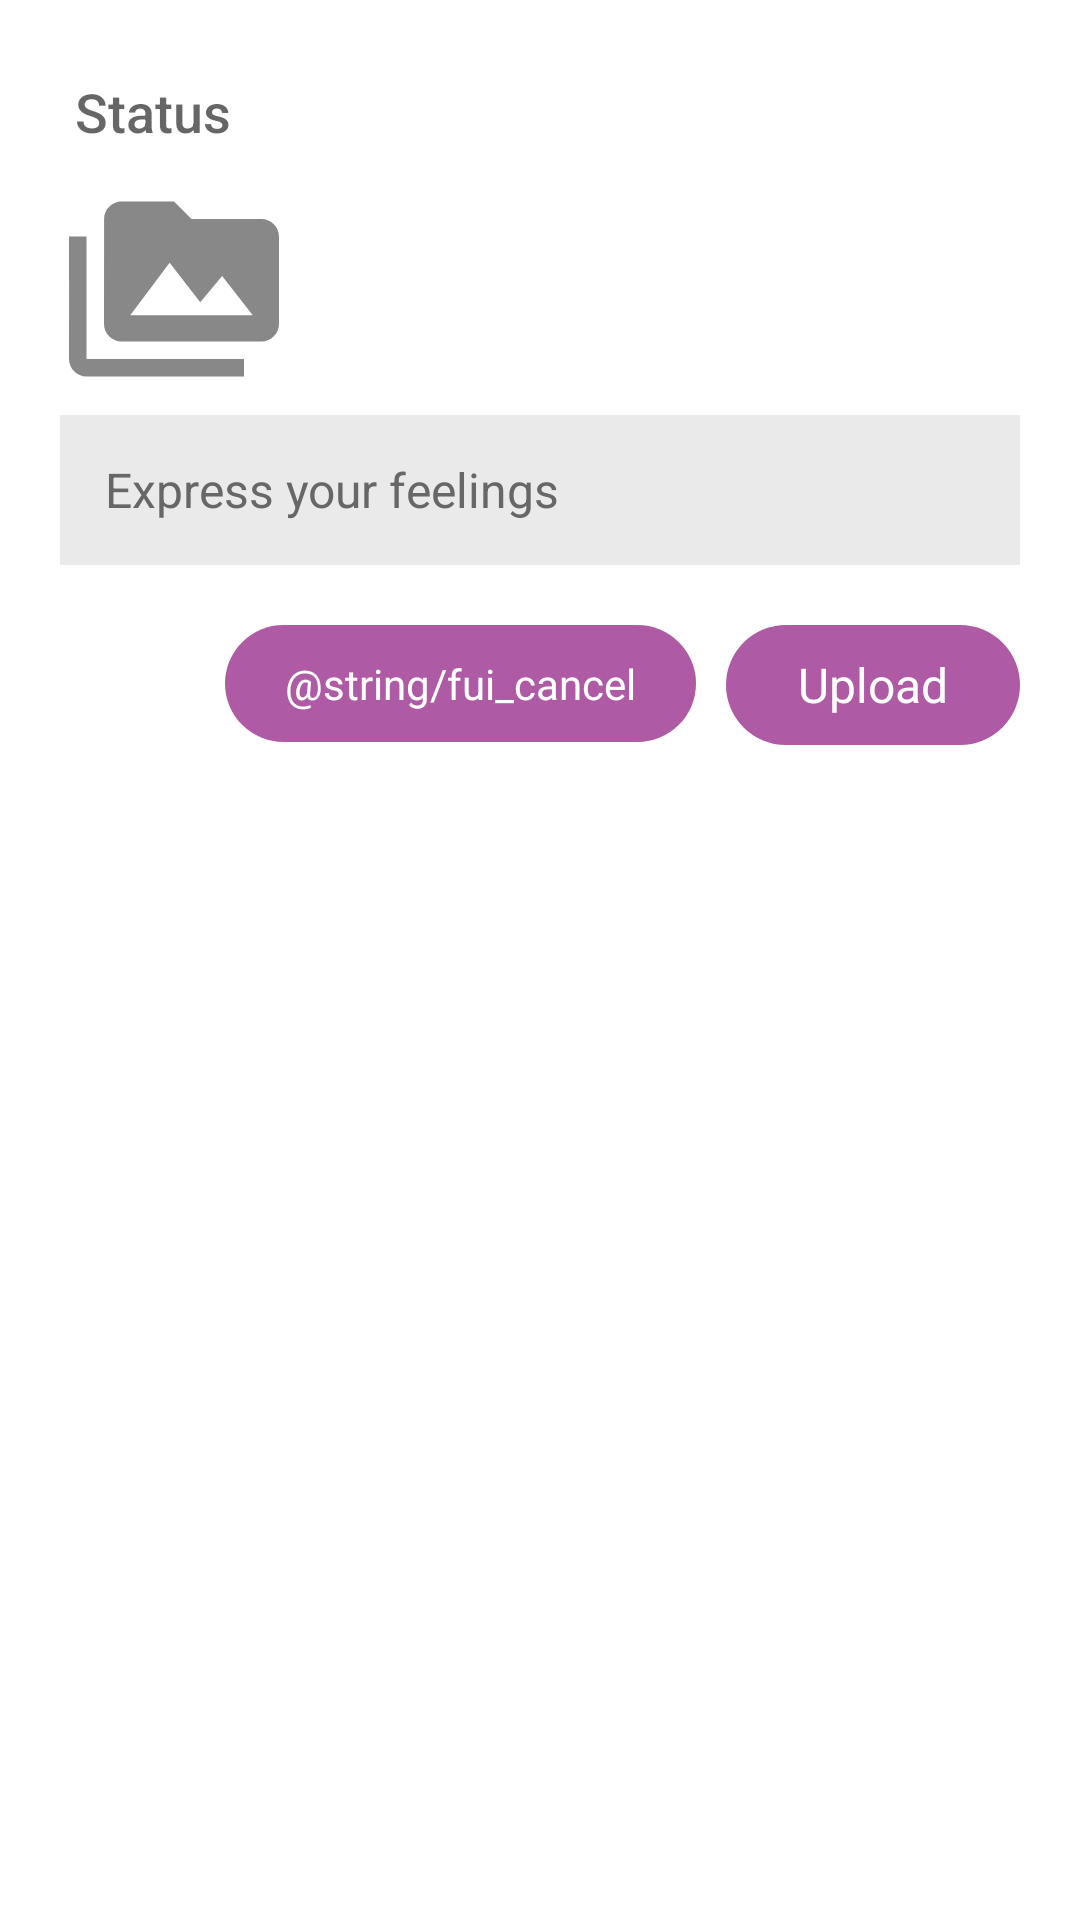

Screen size 1080x1920. Icon name, then its box in pixels as [x1=x1, y1=y1, x2=x2, y2=y2]:
media: [x1=69, y1=201, x2=279, y2=377]
